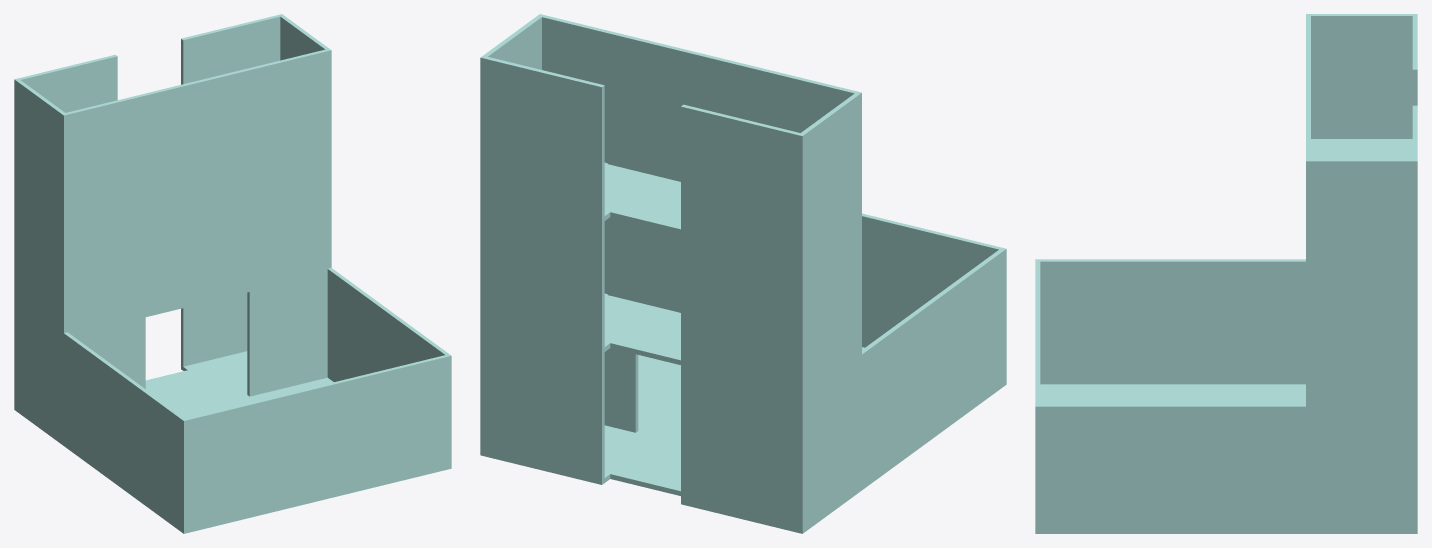
File: building.dae
3 views of the same model, side by side, from view 1: azimuth 30°, elevation 25°; view 2: azimuth 150°, elevation 25°; view 3: azimuth 270°, elevation 25° (orthographic). The views are drawn at different scales.
Visible parts, largest first — view 1: ID2; view 2: ID2; view 3: ID2.
Boxes of the visible parts, x1=… form: ID2: x1=14, y1=14, x2=451, y2=533; ID2: x1=480, y1=14, x2=1006, y2=533; ID2: x1=1035, y1=14, x2=1417, y2=533.
Bounding box in the file's own units: 10.3 × 11.3 × 12.15.
